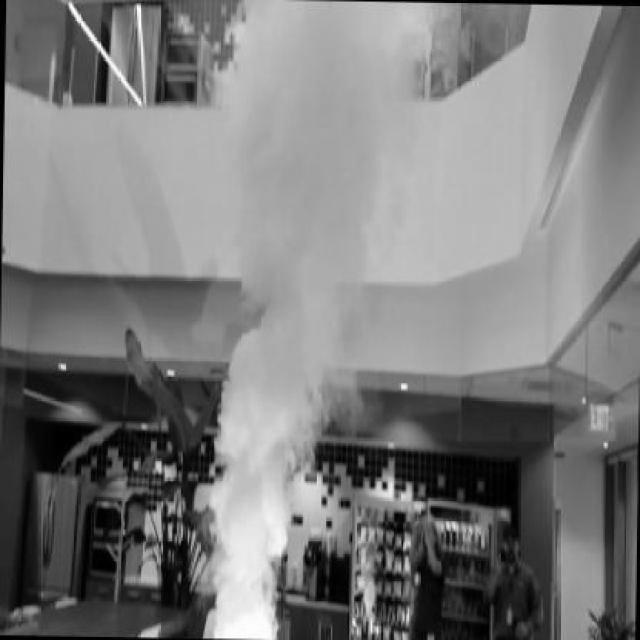fire: (196, 3, 407, 639)
